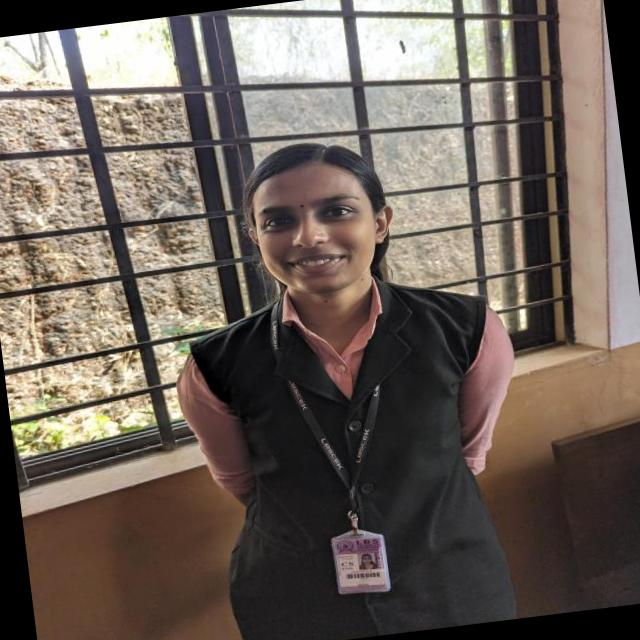id_card: (272, 294, 413, 612)
